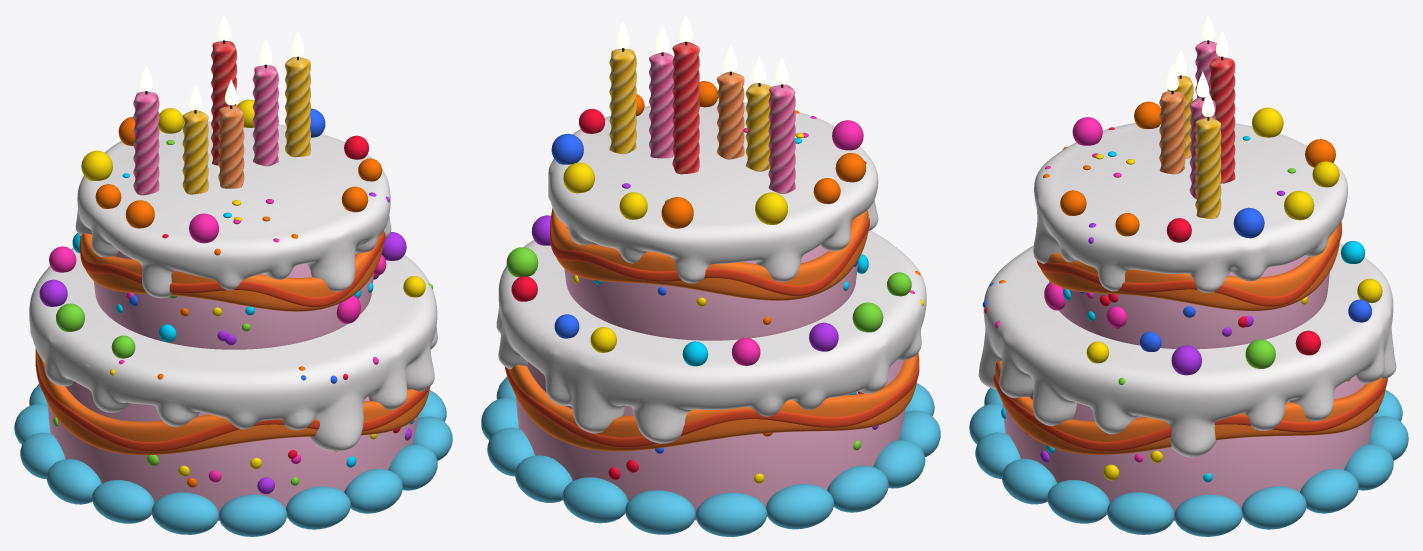
The model's file is cake.glb.
3 renders of one model, left to right at view 1: azimuth 30°, elevation 25°; view 2: azimuth 150°, elevation 25°; view 3: azimuth 270°, elevation 25°, orthographic. The views are drawn at different scales.
Visible parts, largest first — view 1: Lower_Icing, Upper_Icing, Pearl_Border, Lower_Cake_Body, Gumballs, Upper_Cake_Body, Lower_Orange_Ribbon, Upper_Orange_Ribbon, Lower_Red_Ribbon, Upper_Red_Ribbon, Sprinkle_Dots, Candle_Pink (+5 smaller); view 2: Lower_Icing, Upper_Icing, Pearl_Border, Lower_Cake_Body, Gumballs, Upper_Cake_Body, Lower_Orange_Ribbon, Upper_Orange_Ribbon, Lower_Red_Ribbon, Candle_Red, Upper_Red_Ribbon, Candle_Pink (+5 smaller); view 3: Lower_Icing, Upper_Icing, Pearl_Border, Lower_Cake_Body, Gumballs, Upper_Cake_Body, Lower_Orange_Ribbon, Upper_Orange_Ribbon, Lower_Red_Ribbon, Upper_Red_Ribbon, Candle_Yellow_2, Candle_Red (+5 smaller).
Part boxes in pixels (left/top/right/bottom): Lower_Icing: left=29, top=247, right=437, bottom=451; Upper_Icing: left=75, top=121, right=391, bottom=298; Pearl_Border: left=14, top=384, right=452, bottom=536; Lower_Cake_Body: left=47, top=381, right=418, bottom=520; Gumballs: left=39, top=99, right=425, bottom=494; Upper_Cake_Body: left=93, top=251, right=373, bottom=349; Lower_Orange_Ribbon: left=37, top=351, right=429, bottom=455; Upper_Orange_Ribbon: left=81, top=230, right=383, bottom=311; Lower_Red_Ribbon: left=35, top=348, right=429, bottom=451; Upper_Red_Ribbon: left=80, top=232, right=385, bottom=306; Sprinkle_Dots: left=53, top=140, right=432, bottom=487; Candle_Pink: left=133, top=91, right=159, bottom=195; Lower_Icing: left=496, top=230, right=926, bottom=443; Upper_Icing: left=548, top=100, right=878, bottom=283; Pearl_Border: left=481, top=377, right=940, bottom=536; Lower_Cake_Body: left=516, top=359, right=904, bottom=520; Gumballs: left=506, top=81, right=911, bottom=366; Upper_Cake_Body: left=564, top=226, right=857, bottom=340; Lower_Orange_Ribbon: left=509, top=353, right=918, bottom=451; Upper_Orange_Ribbon: left=551, top=209, right=868, bottom=300; Lower_Red_Ribbon: left=504, top=353, right=919, bottom=447; Candle_Red: left=672, top=42, right=699, bottom=174; Upper_Red_Ribbon: left=550, top=208, right=869, bottom=295; Candle_Pink: left=768, top=84, right=795, bottom=193; Lower_Icing: left=978, top=243, right=1396, bottom=457; Upper_Icing: left=1033, top=123, right=1347, bottom=292; Pearl_Border: left=969, top=388, right=1408, bottom=536; Lower_Cake_Body: left=1002, top=375, right=1374, bottom=520; Gumballs: left=1044, top=101, right=1382, bottom=480; Upper_Cake_Body: left=1049, top=255, right=1329, bottom=349; Lower_Orange_Ribbon: left=995, top=361, right=1385, bottom=454; Upper_Orange_Ribbon: left=1041, top=222, right=1340, bottom=310; Lower_Red_Ribbon: left=993, top=375, right=1387, bottom=451; Upper_Red_Ribbon: left=1036, top=221, right=1341, bottom=306; Candle_Yellow_2: left=1195, top=117, right=1221, bottom=218; Candle_Red: left=1209, top=57, right=1235, bottom=183.
Bounding box in the file's own units: 1.13 × 1.21 × 1.13.
